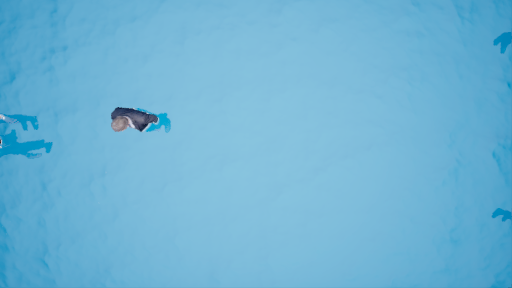person: (105, 99, 181, 144)
